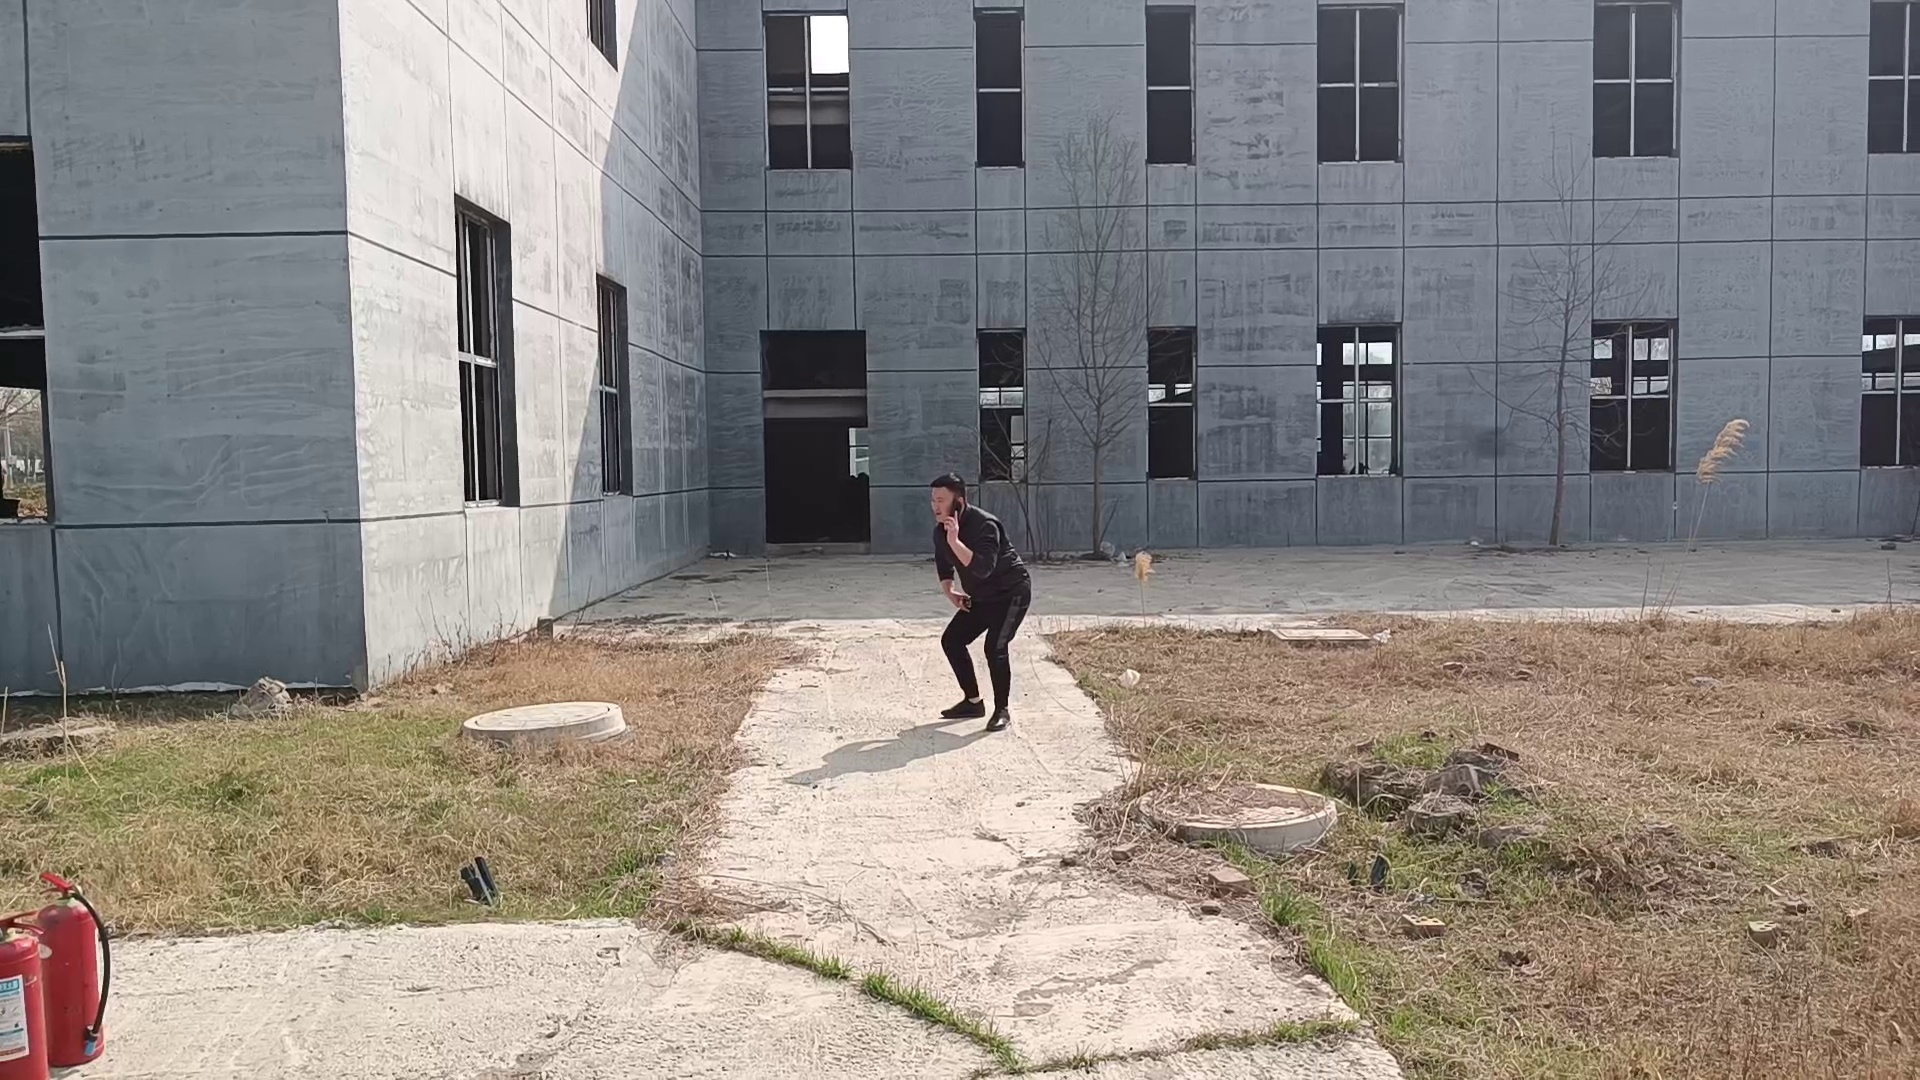phone: (919, 477, 971, 534)
